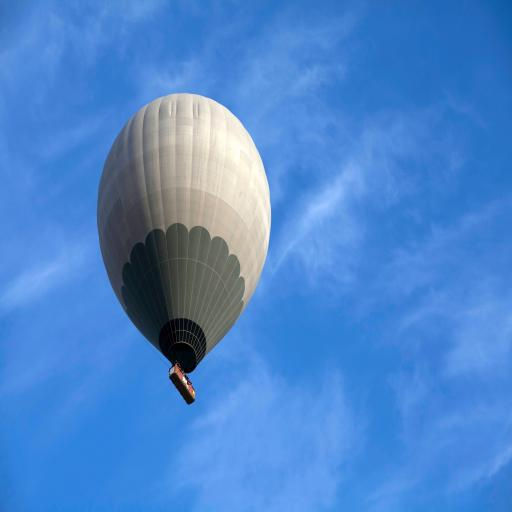hot air ballon: (92, 88, 274, 414)
